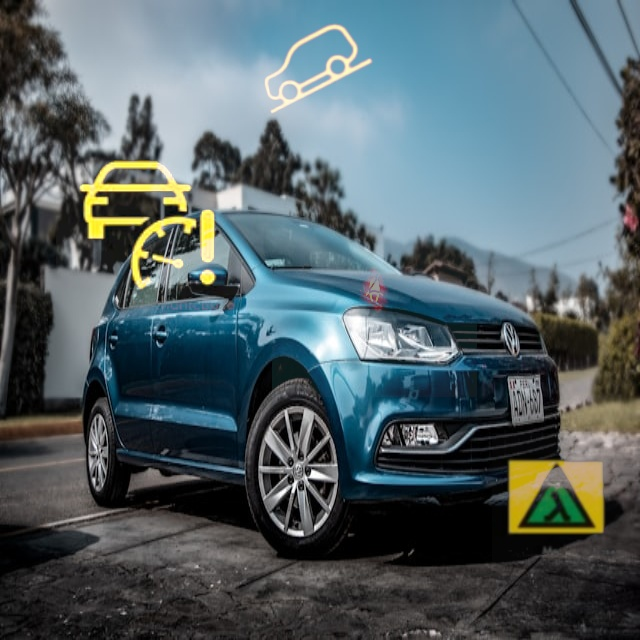symbol: (272, 192, 477, 397), (56, 135, 238, 317), (248, 1, 389, 142), (492, 433, 621, 562)
